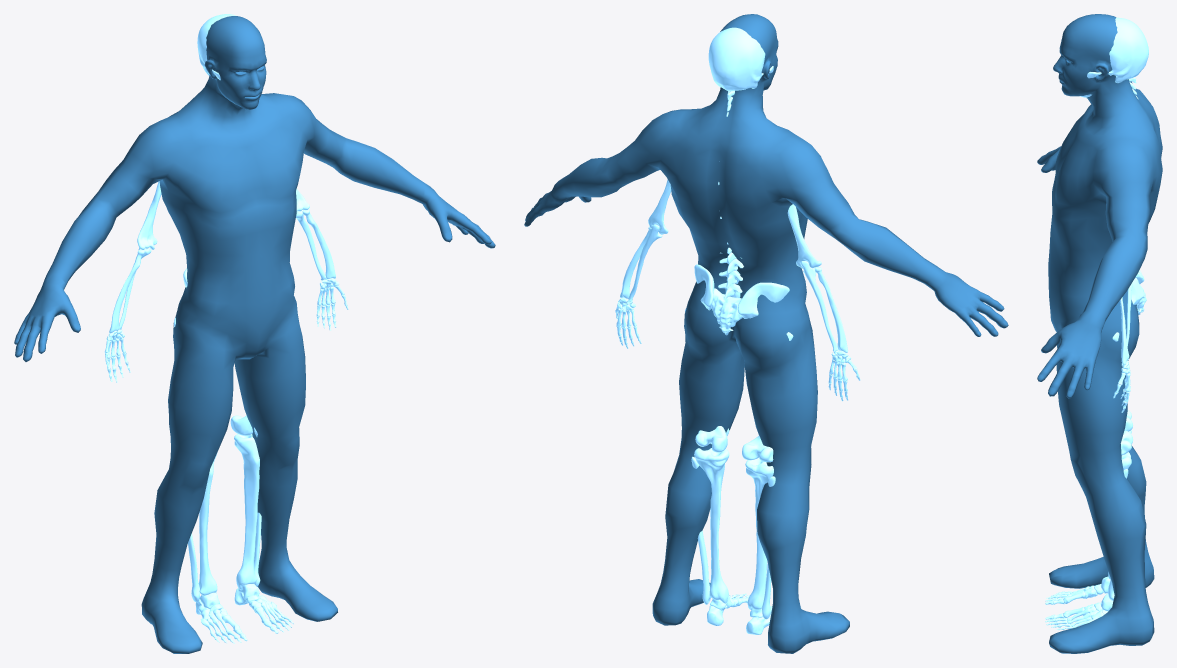
The model's file is human-xray-preview.glb.
3 renders of one model, left to right at view 1: azimuth 30°, elevation 25°; view 2: azimuth 150°, elevation 25°; view 3: azimuth 270°, elevation 25°, orthographic.
Parts seen in each view (by area): view 1: Human_BaseMesh_Male, Object_2; view 2: Human_BaseMesh_Male, Object_2; view 3: Human_BaseMesh_Male, Object_2.
Boxes of the visible parts, x1,y1,x2,y2 form: Human_BaseMesh_Male: [14, 16, 495, 653]; Object_2: [104, 14, 348, 643]; Human_BaseMesh_Male: [524, 14, 1008, 653]; Object_2: [615, 27, 860, 634]; Human_BaseMesh_Male: [1037, 14, 1162, 653]; Object_2: [1045, 17, 1148, 629].
Bounding box in the file's own units: 13.16 × 16.04 × 3.05.
